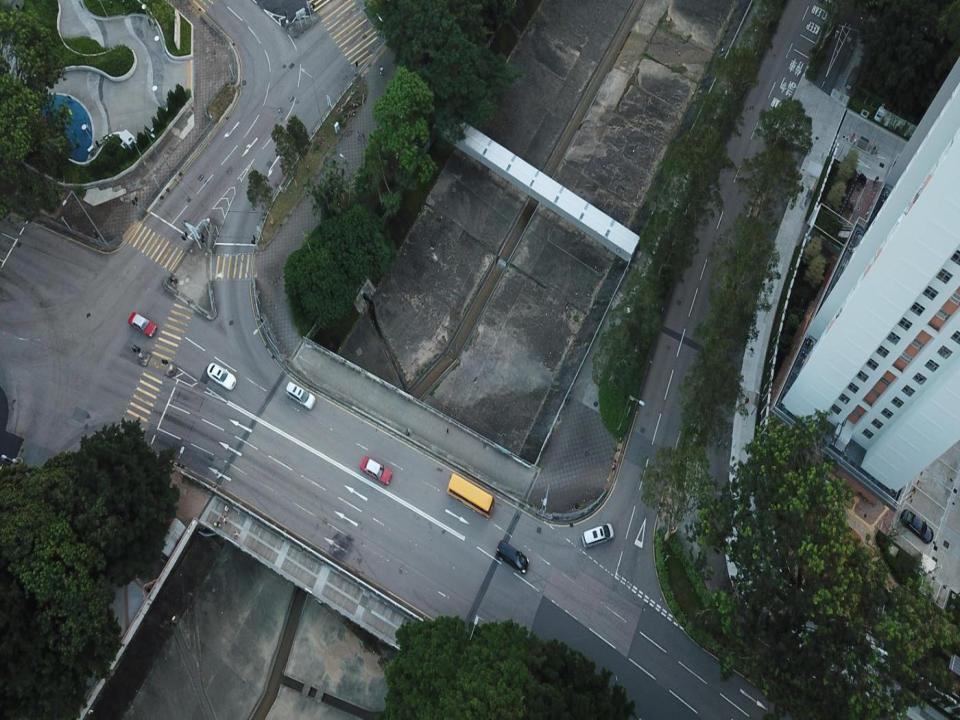car: (900, 509, 933, 544), (496, 539, 528, 573), (360, 455, 392, 484), (582, 523, 614, 549), (207, 363, 237, 390), (128, 312, 157, 338)
van: (446, 472, 494, 518)
